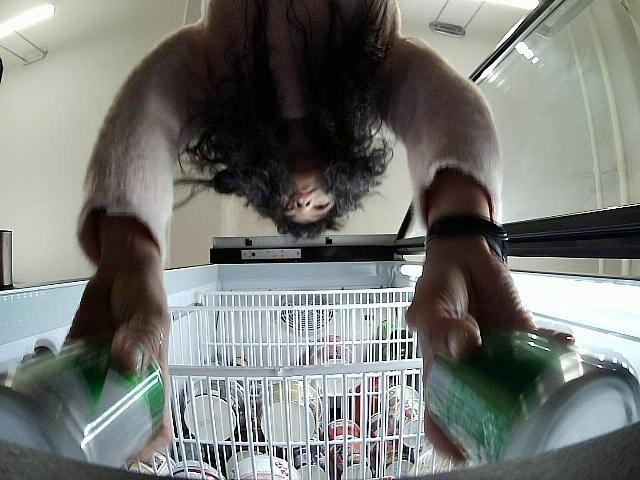12_chilsungCider: (423, 330, 640, 466), (0, 342, 164, 469)
